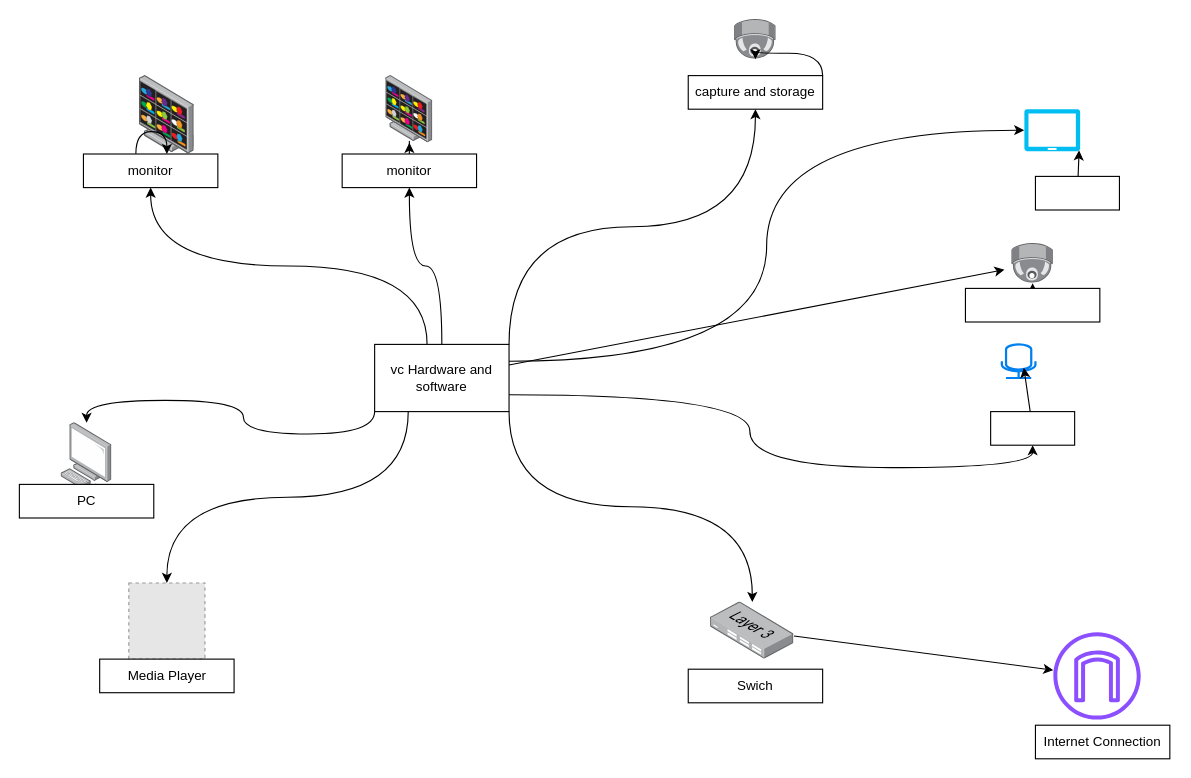
Some shapes in this 1191 by 778 pixel diagram are drawn without their labels. Grey dashed boxes stand in for pictures. Here are the shapes that lost their labels. From the top down, the centre of each, then its label:
(1076,192): Tablet
(1032,304): Document Camera
(1032,427): Mic array
